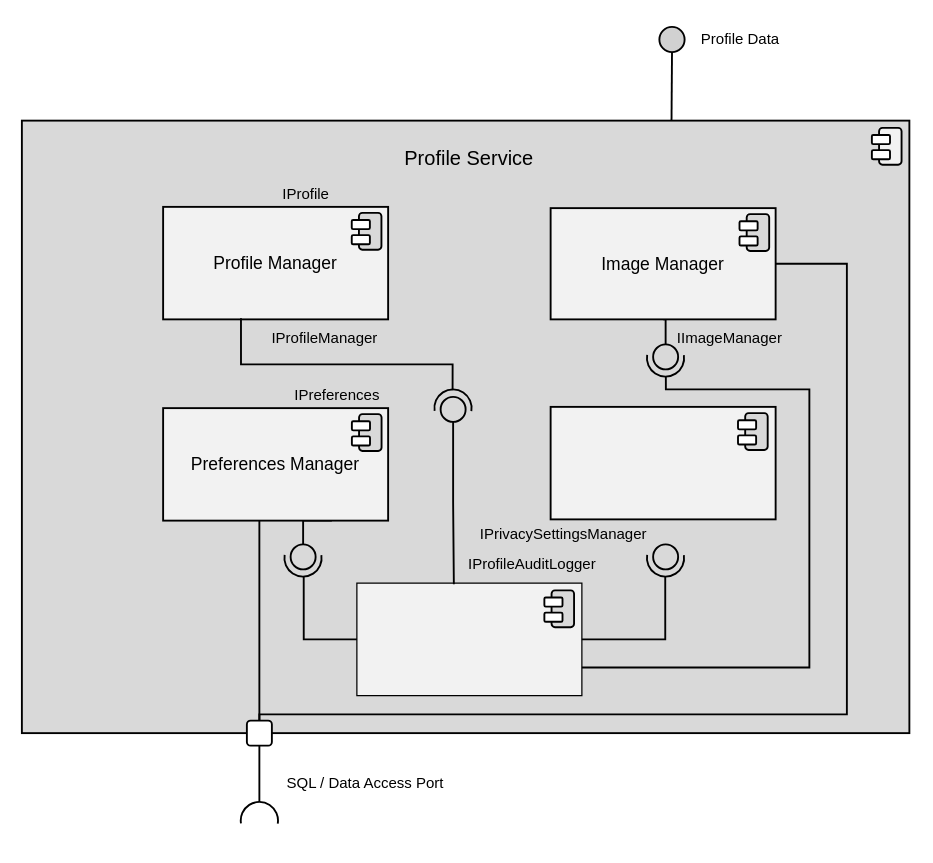
This 933x863 diagram has some shape labels left out. The box of each missing label's shape, as (x1, y1, x2, y2) in pixels:
Privacy Settings Manager: (549, 405, 776, 520)
Profile Audit Logger: (356, 582, 582, 696)
